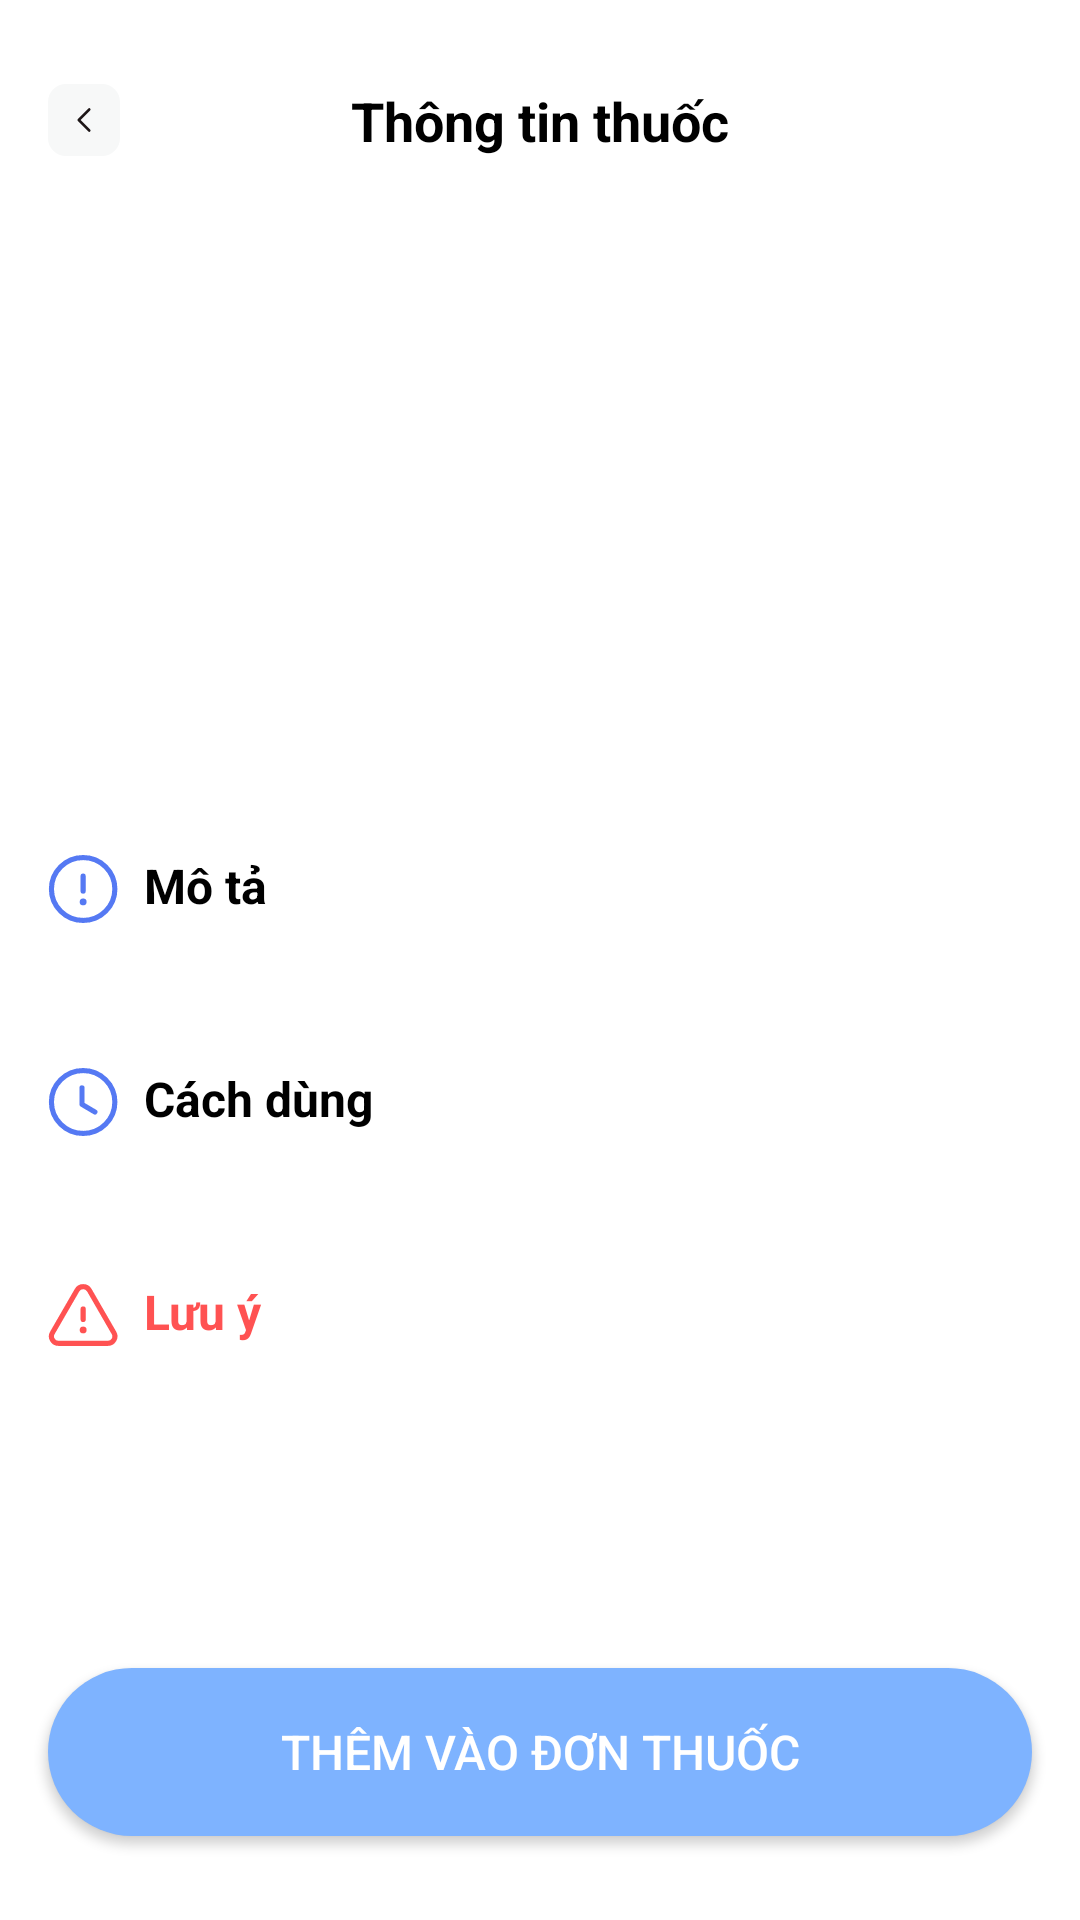

Where icons sit on this 1080x1920 app screen, as (x1, y1, x2, y2):
Back: (77, 108, 91, 132)
info: (49, 855, 118, 923)
time: (49, 1068, 118, 1136)
warning: (48, 1284, 118, 1346)
